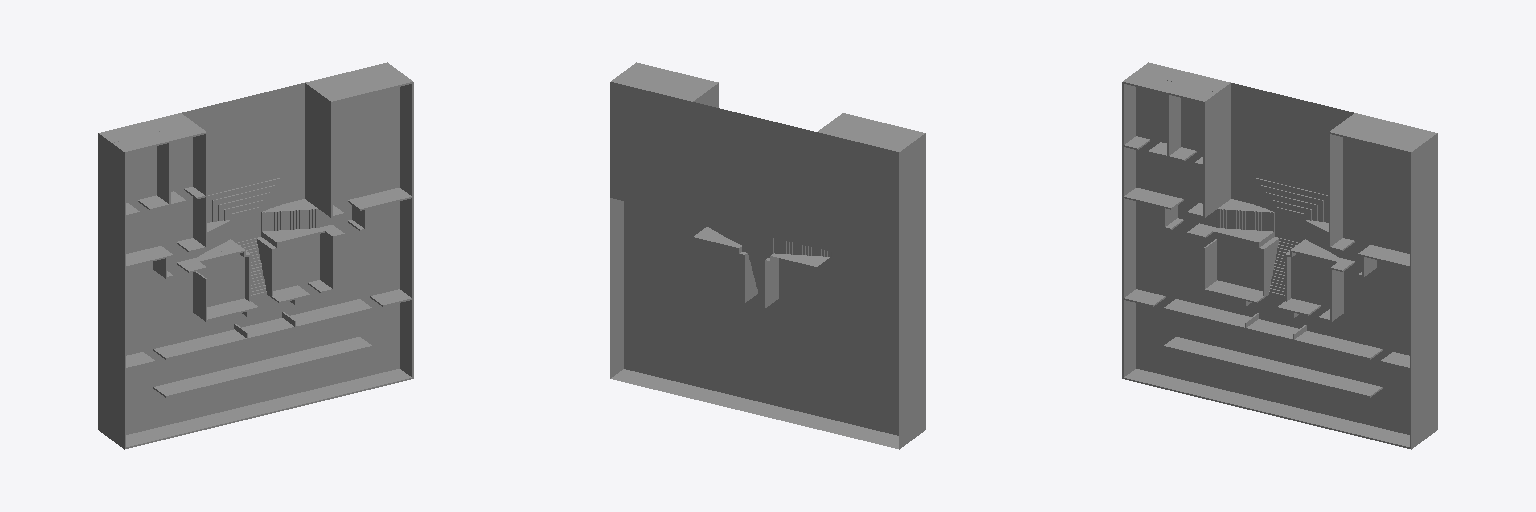
Rendered from museum_normals_ok.obj.
3 views of the same model, side by side, from view 1: azimuth 30°, elevation 25°; view 2: azimuth 150°, elevation 25°; view 3: azimuth 330°, elevation 25° (orthographic).
Parts seen in each view (by area): view 1: Planta1_Plane; view 2: Planta1_Plane; view 3: Planta1_Plane.
Part boxes in pixels (bbox=[...]): Planta1_Plane: bbox=[98, 62, 413, 449]; Planta1_Plane: bbox=[610, 62, 925, 449]; Planta1_Plane: bbox=[1122, 62, 1437, 449].
Bounding box in the file's own units: 14 × 13.75 × 2.2.